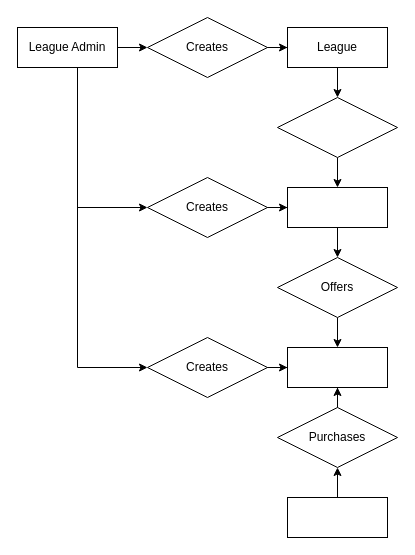
This 415x555 diagram has some shape labels left out. The centre of each missing label's shape, as x and y in pixels:
"Membership" goes at pixel 337 367.
"Player" goes at pixel 337 517.
"Program" goes at pixel 337 207.
"Runs" goes at pixel 337 127.
